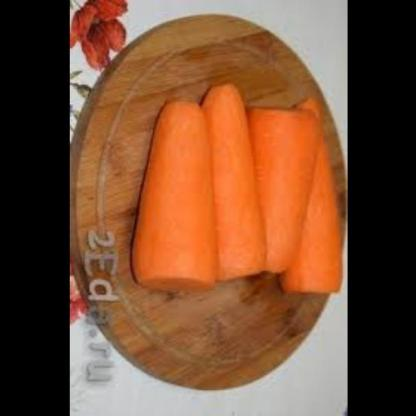carrot: (125, 86, 225, 298), (190, 65, 271, 280), (240, 96, 321, 278), (286, 95, 348, 306)
